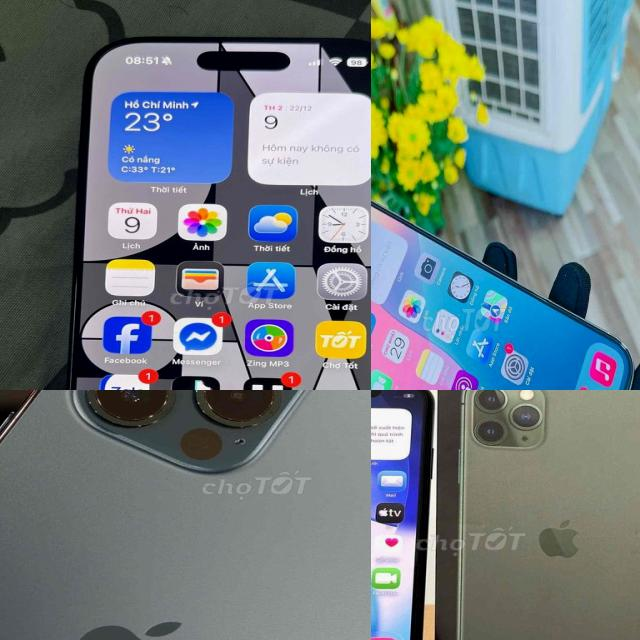gen_11: (371, 390, 439, 640)
gen_12_13: (0, 390, 371, 640), (371, 184, 636, 390)
gen_16: (47, 21, 371, 390)
